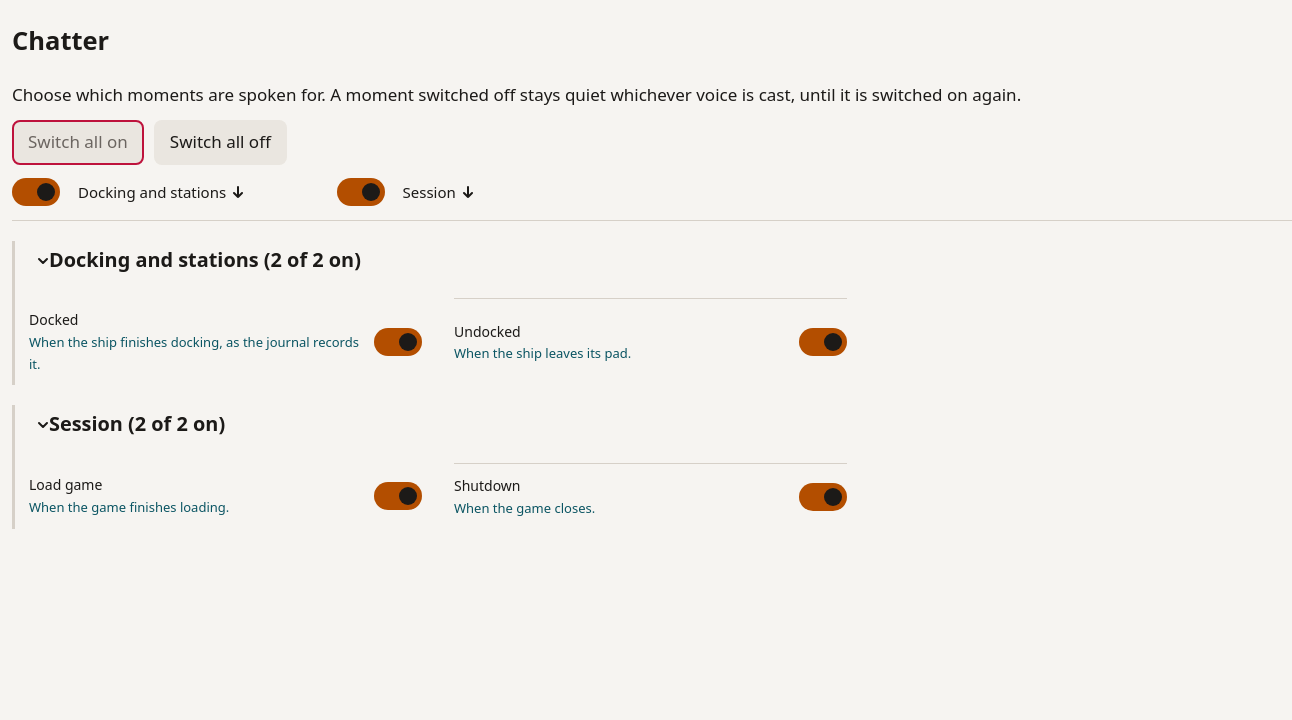
Test case: the chatter pane › says why a switch could not be kept
Step 1. Click the switch named "Docked" → x=398, y=342, box [374,328,422,356]
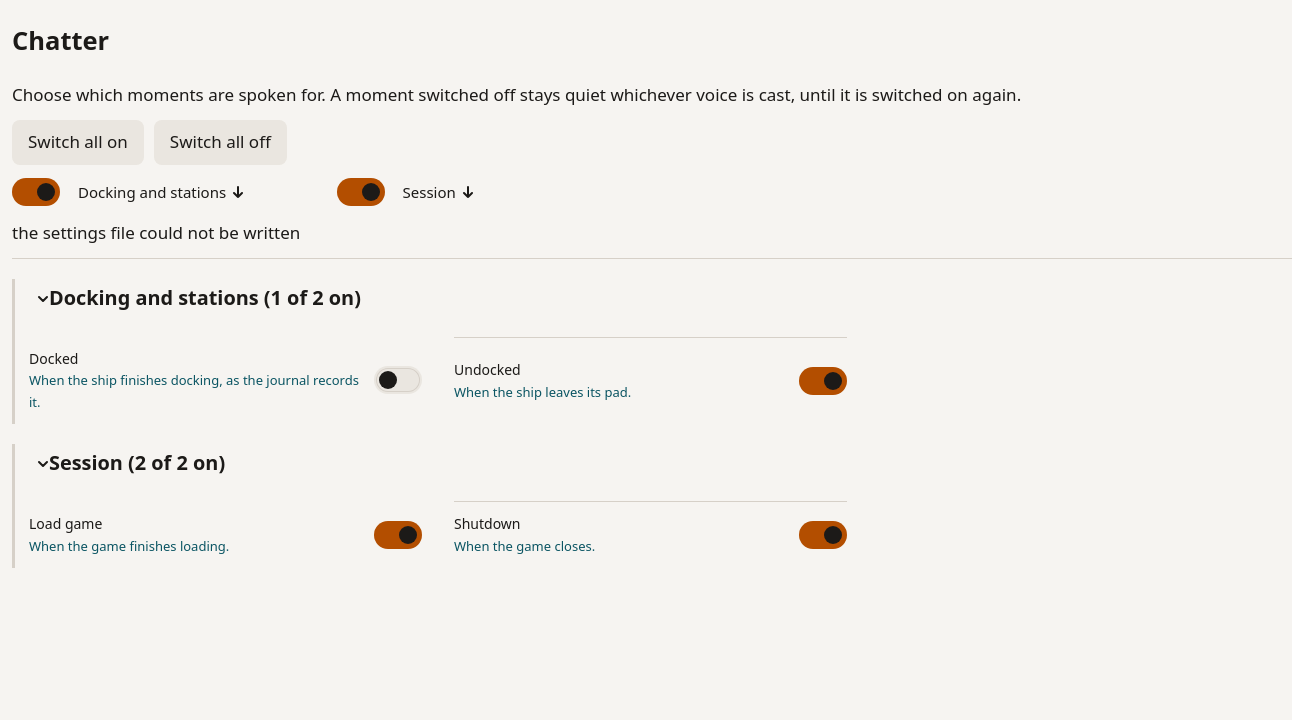
Expected: the message reads "the settings file could not be written", [12,221,300,244]
